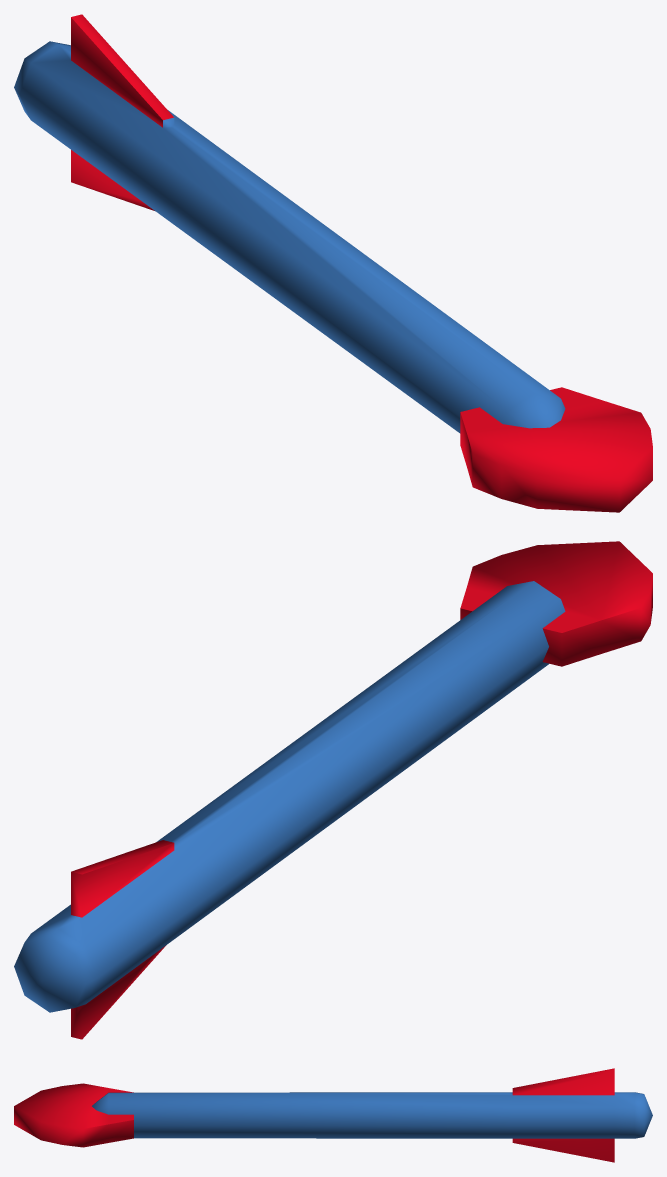
File: Arrow.fbx
3 renders of one model, top to bottom at view 1: azimuth 30°, elevation 25°; view 2: azimuth 150°, elevation 25°; view 3: azimuth 270°, elevation 25°, orthographic. The views are drawn at different scales.
Parts seen in each view (by area): view 1: arrow.001; view 2: arrow.001; view 3: arrow.001.
Part boxes in pixels (box(x1,y1,x2,y2)): arrow.001: box(14, 14, 652, 512); arrow.001: box(14, 541, 652, 1039); arrow.001: box(14, 1068, 652, 1162).
Size of the model in its own units: 52.52 by 49.17 by 312.
